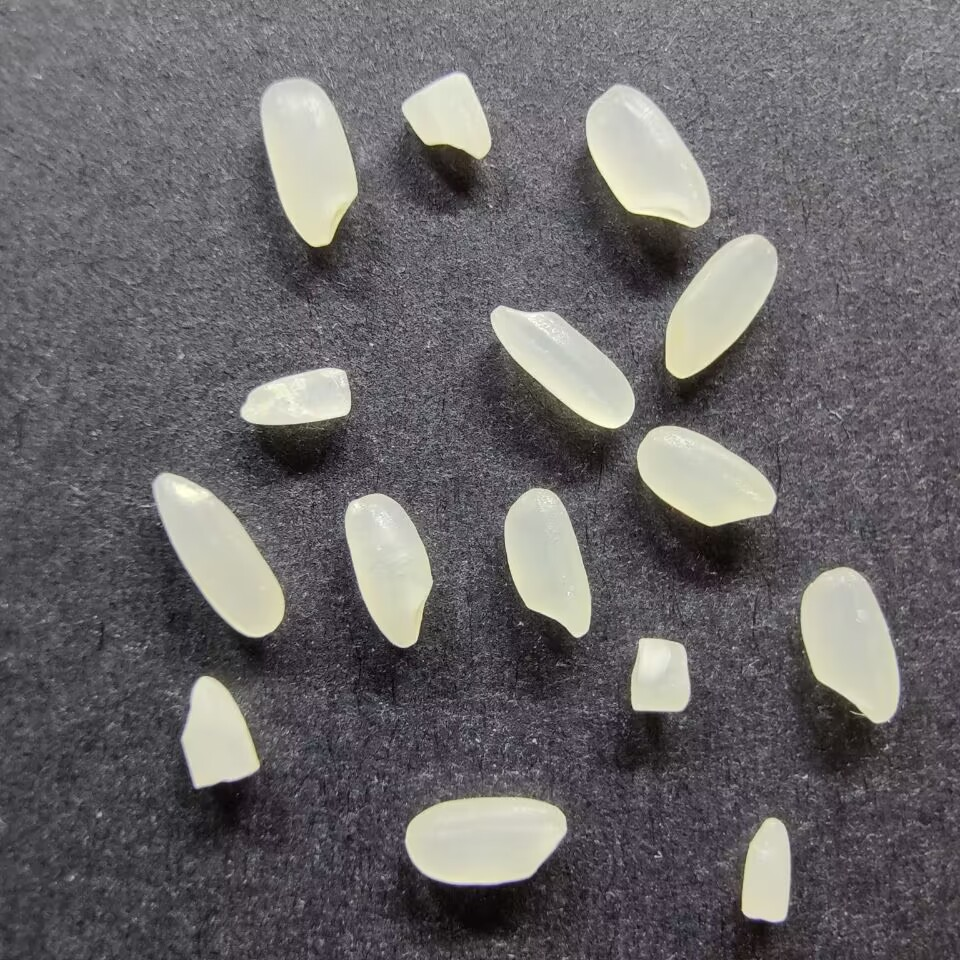broken: (178, 674, 261, 792), (397, 69, 493, 162), (237, 365, 355, 426), (738, 816, 794, 924), (623, 639, 691, 714)
rice: (149, 469, 286, 640), (489, 303, 636, 431), (584, 83, 711, 230), (257, 76, 358, 250), (662, 232, 779, 379), (798, 566, 902, 726), (403, 795, 567, 886), (635, 424, 776, 528), (341, 493, 433, 648), (502, 485, 594, 639)
